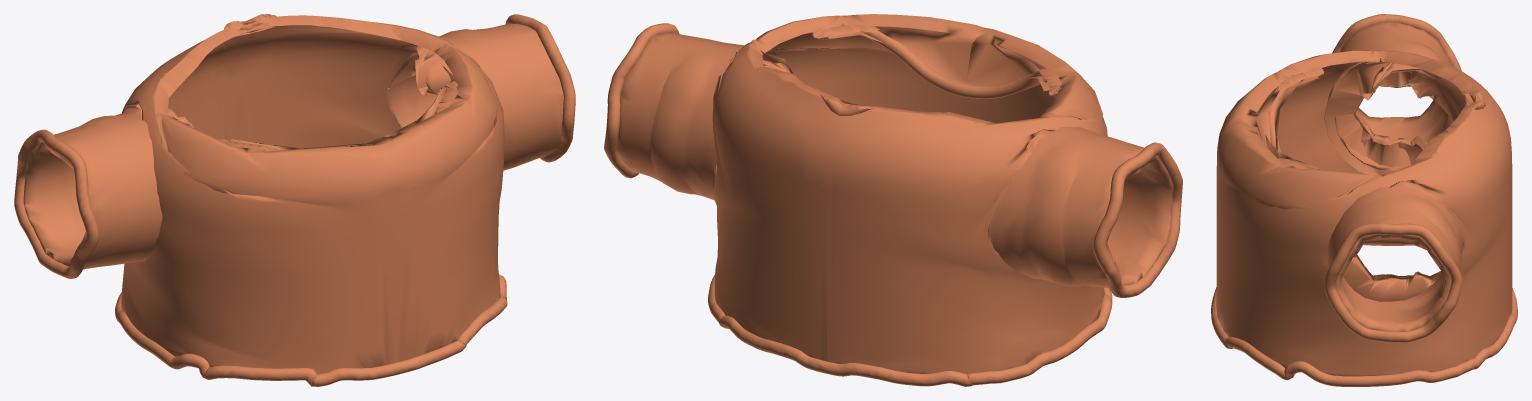
File: 2HT-masculino.glb
3 views of the same model, side by side, from view 1: azimuth 30°, elevation 25°; view 2: azimuth 150°, elevation 25°; view 3: azimuth 270°, elevation 25° (orthographic). The views are drawn at different scales.
Parts seen in each view (by area): view 1: fitted-shell, bound-edge (×4); view 2: fitted-shell, bound-edge (×4); view 3: fitted-shell, bound-edge (×4).
Part boxes in pixels (left/top/right/bottom): fitted-shell: left=23, top=15, right=563, bottom=374; bound-edge (×4): left=14, top=14, right=575, bottom=386; fitted-shell: left=616, top=14, right=1173, bottom=374; bound-edge (×4): left=604, top=23, right=1182, bottom=386; fitted-shell: left=1216, top=22, right=1512, bottom=376; bound-edge (×4): left=1211, top=14, right=1517, bottom=386.
Bounding box in the file's own units: 0.0586 × 0.0281 × 0.0353.
